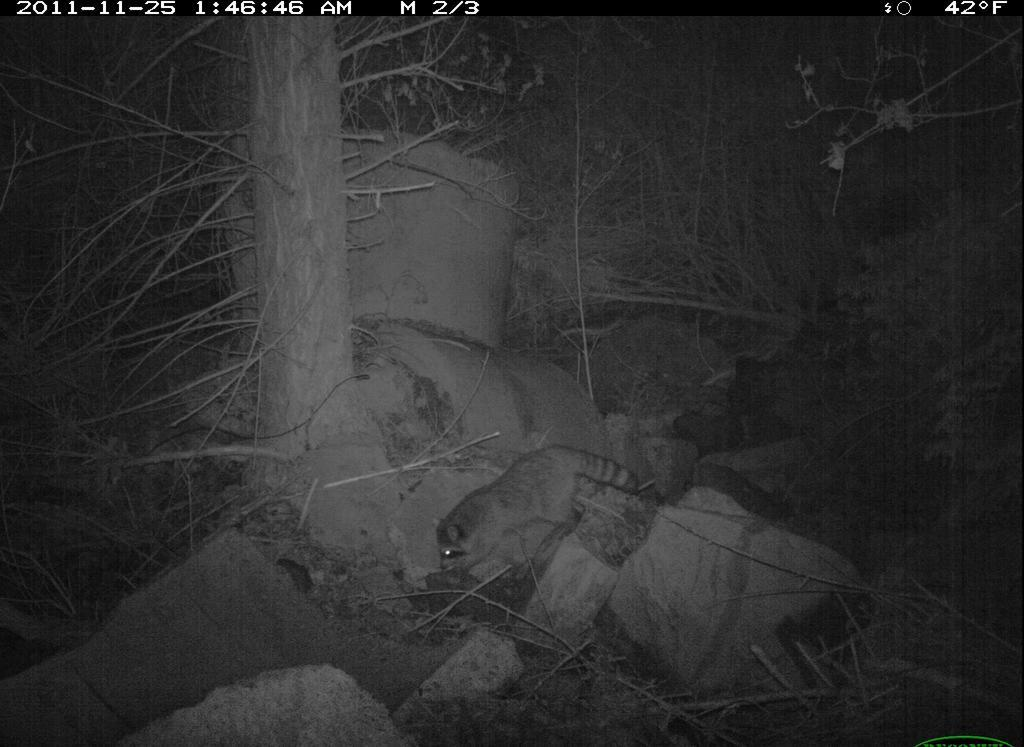raccoon: (432, 442, 647, 580)
